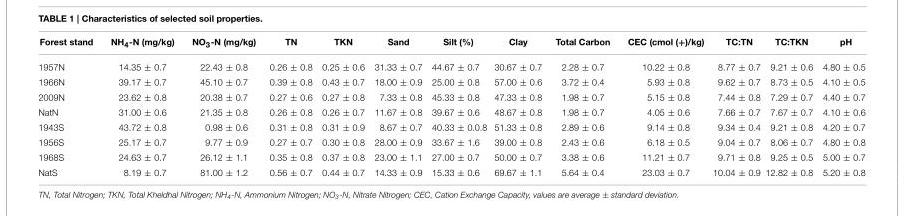table: (38, 37, 865, 176)
table column: (619, 37, 708, 176), (102, 37, 183, 176), (183, 37, 263, 176), (549, 37, 619, 176), (38, 37, 102, 176), (427, 37, 490, 176), (490, 37, 549, 176), (369, 37, 427, 176), (708, 37, 763, 176), (763, 37, 818, 176), (263, 37, 317, 176), (317, 37, 369, 176), (818, 37, 865, 176)
table column header: (38, 37, 865, 55)
table row: (38, 55, 865, 74), (38, 37, 865, 55), (38, 74, 865, 89), (38, 89, 865, 104), (38, 104, 865, 119), (38, 119, 865, 134), (38, 134, 865, 149), (38, 149, 865, 164), (38, 164, 865, 176)
